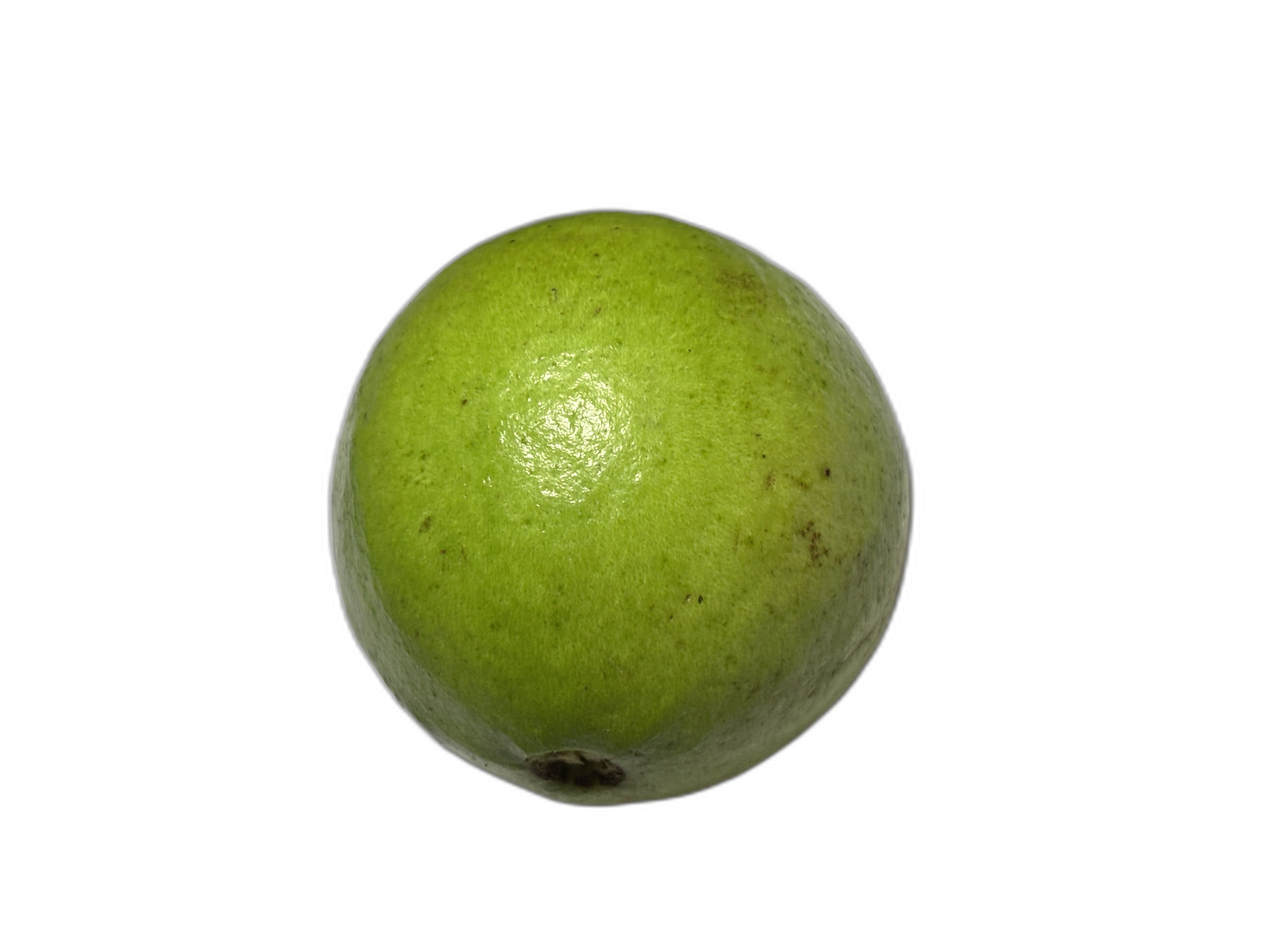guava: (274, 239, 1196, 848)
